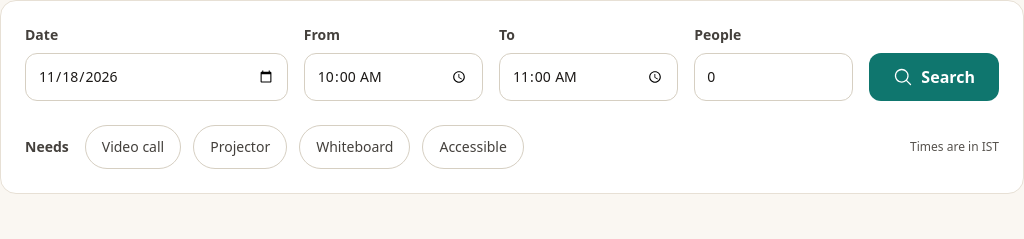
Test case: SearchForm › rejects zero people
This screenshot has width=1024, height=239.
Click the button "Search". click: (934, 77)
box: x1=869 y1=53 x2=999 y2=101
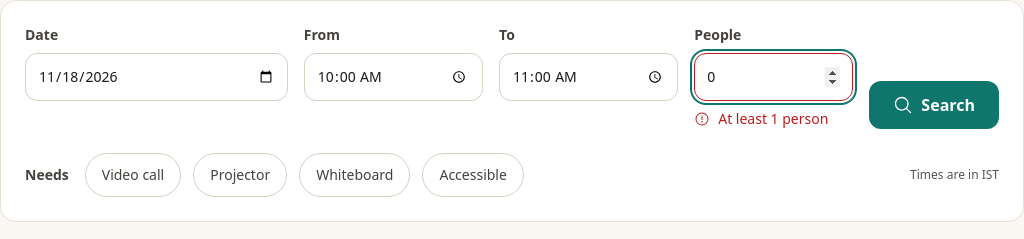
Expected: the text "At least 1 person" is shown, x1=694 y1=109 x2=828 y2=128
